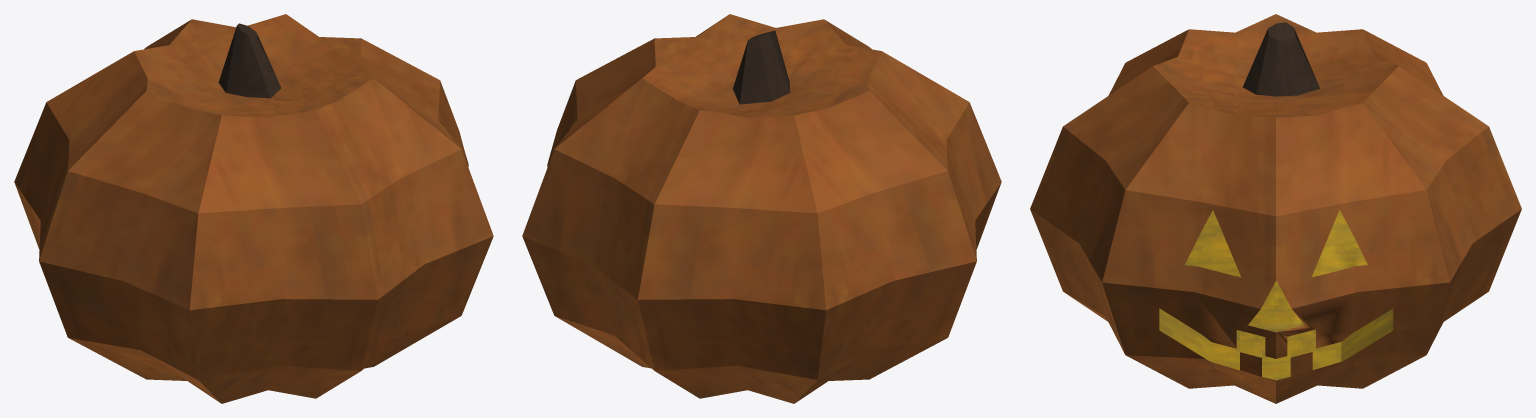
Rendered from JackOlantern_3.fbx.
The picture shows the model from 3 angles, left to right: view 1: azimuth 30°, elevation 25°; view 2: azimuth 150°, elevation 25°; view 3: azimuth 270°, elevation 25°; orthographic projection.
Parts seen in each view (by area): view 1: JackOlantern_3; view 2: JackOlantern_3; view 3: JackOlantern_3.
Boxes of the visible parts, <box> form: JackOlantern_3: <box>14,14,493,403</box>; JackOlantern_3: <box>522,14,1001,403</box>; JackOlantern_3: <box>1030,14,1521,403</box>.
Size of the model in its own units: 196 by 145 by 200.
